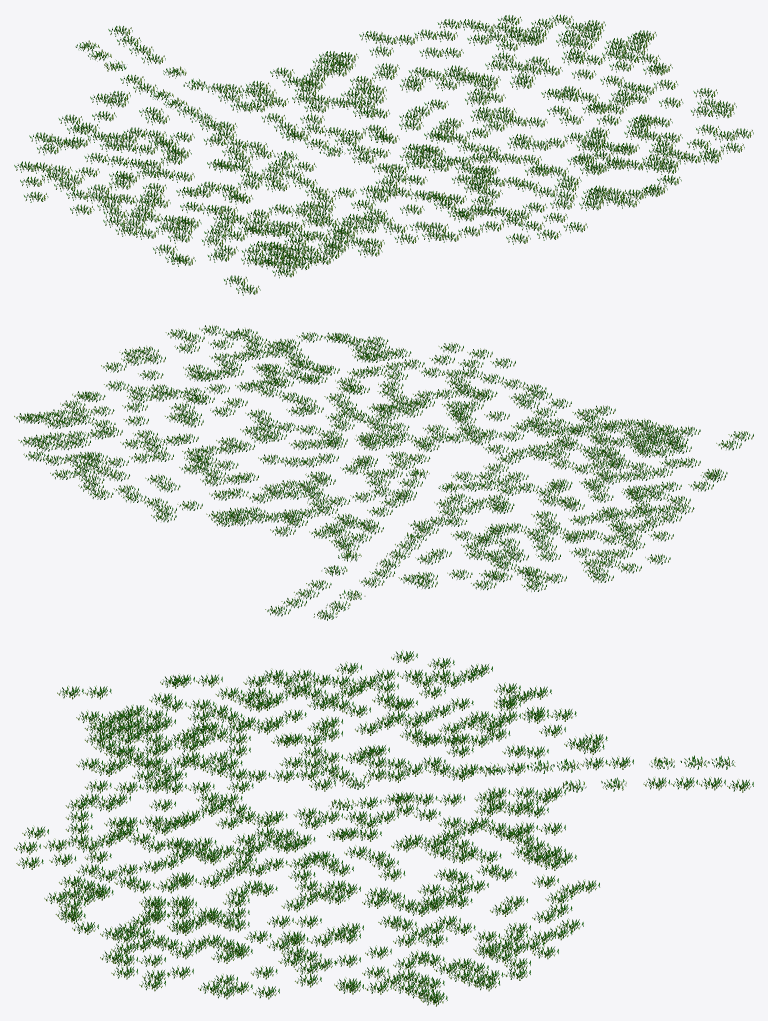
File: grassBlades.fbx
3 renders of one model, top to bottom at view 1: azimuth 30°, elevation 25°; view 2: azimuth 150°, elevation 25°; view 3: azimuth 270°, elevation 25°, orthographic. The views are drawn at different scales.
Bounding box in the file's own units: 6032 × 23.86 × 5315.
